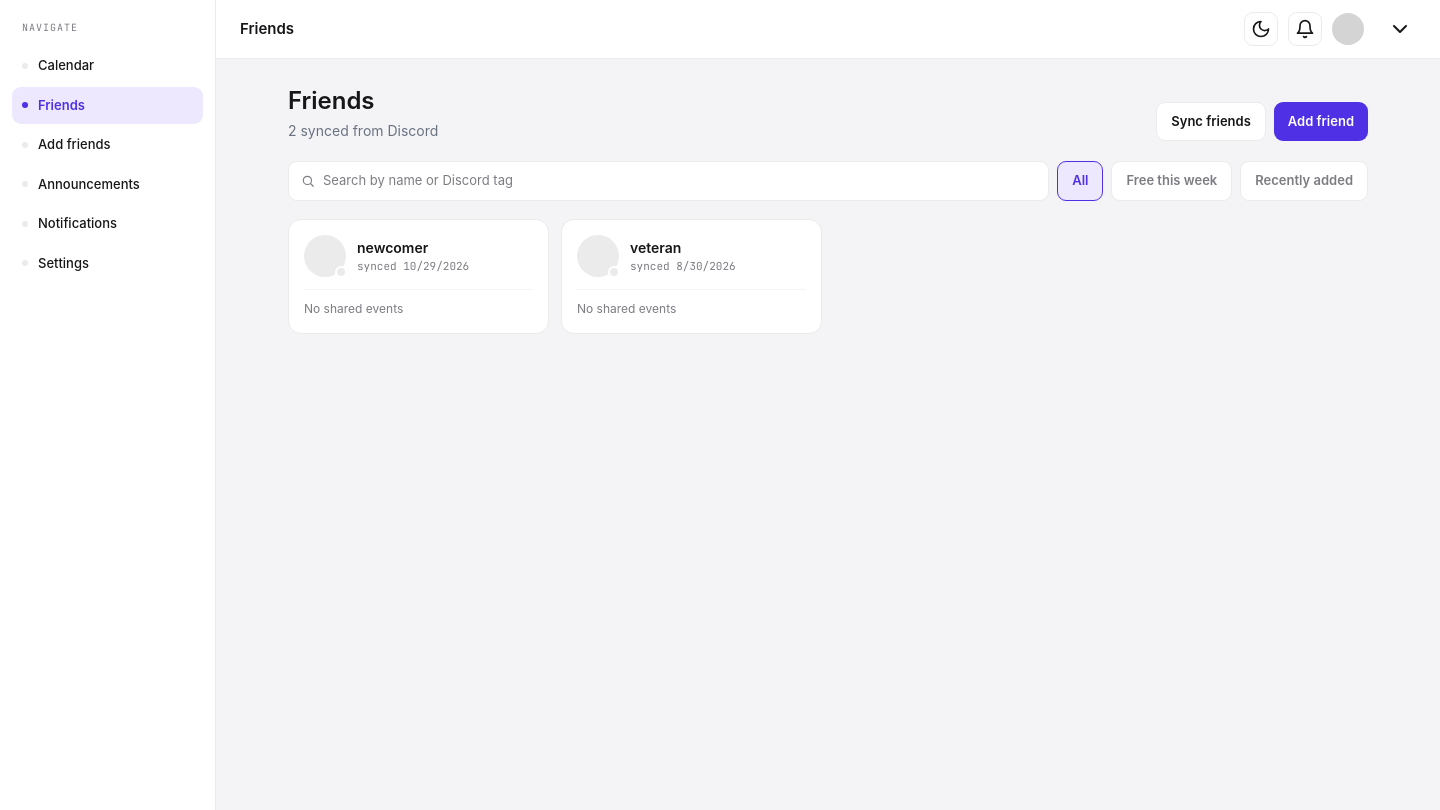
Test: friends directory page › the filter chips › narrows to people free at some point this week
Expected: the text "veteran" is shown, [630,239,681,256]
Click the button "Free this week": (1172, 181) [1112,161,1232,200]
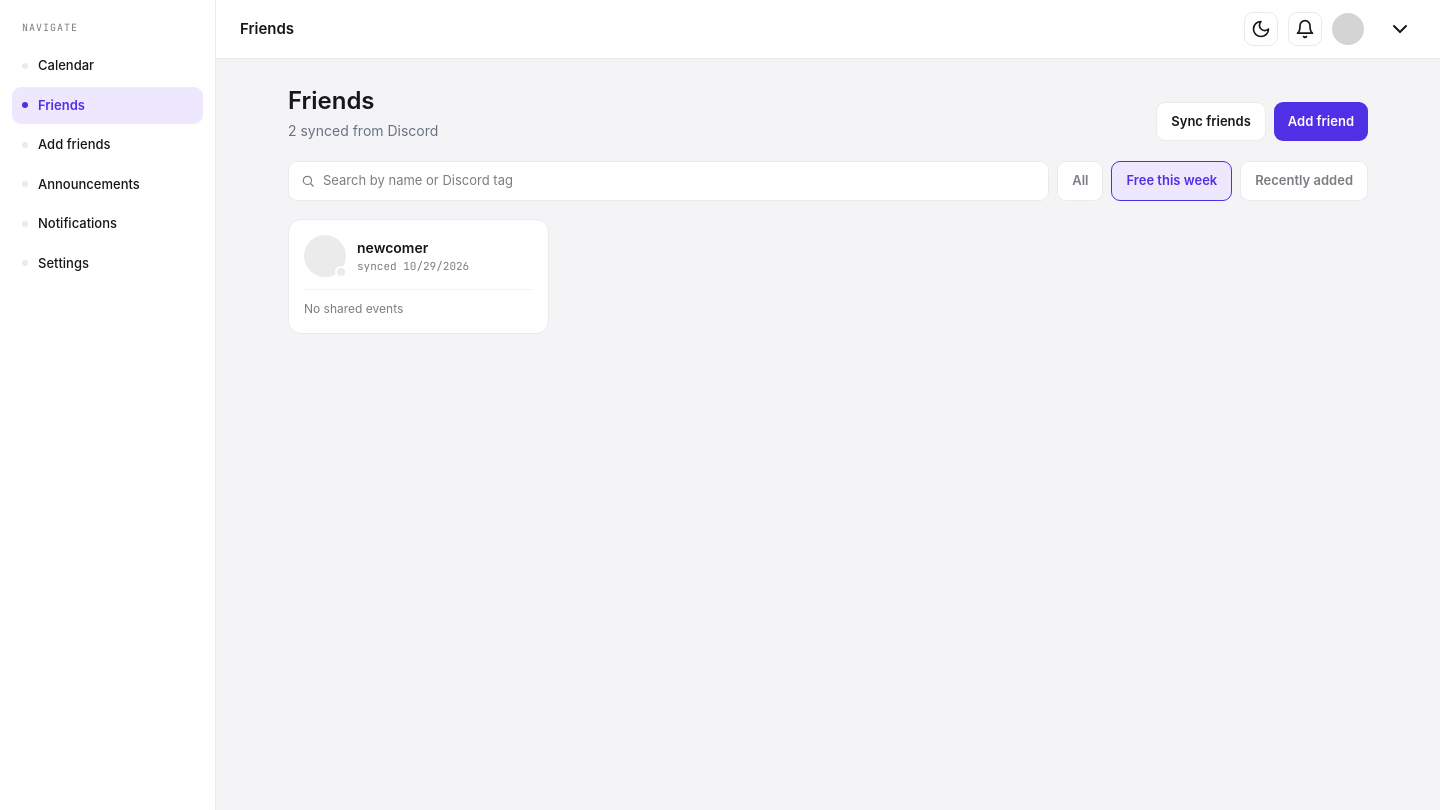
Expected: the text "newcomer" is shown, [357,239,428,256]
Expected: the link "veteran" is gone
